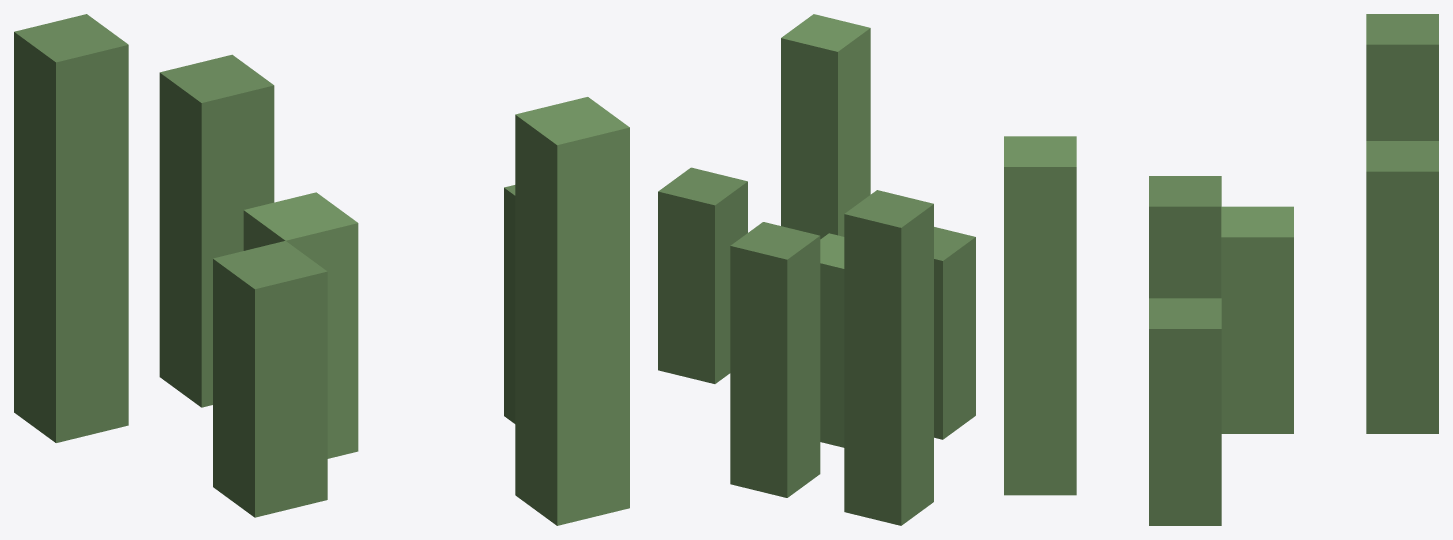
Rendered from ortiga_05.glb.
3 renders of one model, left to right at view 1: azimuth 30°, elevation 25°; view 2: azimuth 150°, elevation 25°; view 3: azimuth 270°, elevation 25°, orthographic. The views are drawn at different scales.
Visible parts, largest first — view 1: ortiga_05; view 2: ortiga_05; view 3: ortiga_05.
Part boxes in pixels (x1,y1,x2,y2): ortiga_05: [14, 14, 629, 525]; ortiga_05: [658, 14, 975, 525]; ortiga_05: [1004, 14, 1438, 525].
Size of the model in its own units: 0.6 by 0.5 by 0.6.
